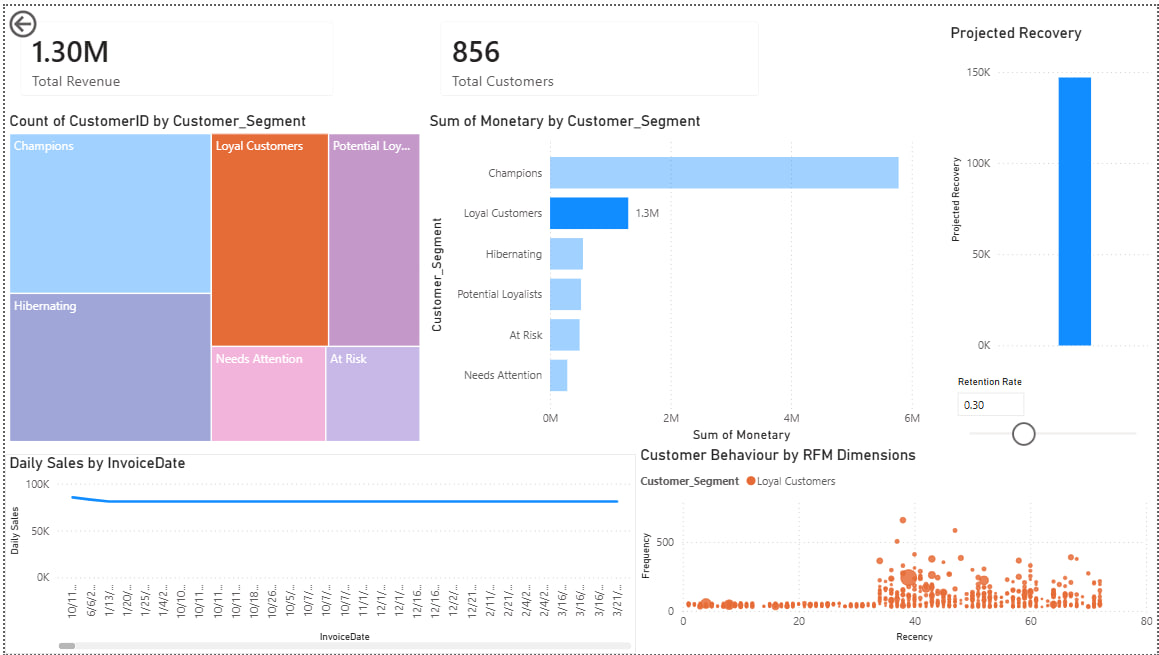

What the dashboard file says about the page in this screenshot:
{"tool":"powerbi","page":{"name":"Page 1","canvas":[1280,720],"ordinal":0},"visuals":[{"type":"treemap","fields":{"Group":["Fact_RFM.Customer_Segment"],"Values":["CountNonNull(Fact_RFM.CustomerID)"]},"box":[0,117.5,466.2,371.2],"z":0},{"type":"clusteredBarChart","fields":{"Category":["Fact_RFM.Customer_Segment"],"Y":["Sum(Fact_RFM.Monetary)"]},"box":[466.2,117.5,578.8,371.2],"z":1},{"type":"cardVisual","fields":{"Data":["Sum(Fact_RFM.Monetary)"]},"box":[0,0,466.2,117.5],"z":2},{"type":"cardVisual","fields":{"Data":["CountNonNull(Fact_RFM.CustomerID)"]},"box":[468.8,0,576.2,117.5],"z":3},{"type":"lineChart","fields":{"Y":["Sum(Fact_RFM.Monetary)"],"Category":["data.InvoiceDate"]},"box":[0,498.2,1170,221.8],"z":4},{"type":"slicer","fields":{"Values":["Retention Rate.Retention Rate"]},"box":[1045,498.8,235,102.5],"z":5},{"type":"actionButton","box":[0,0,100,40],"z":6},{"type":"clusteredColumnChart","fields":{"Y":["Fact_RFM.Projected Recovery"]},"box":[1045,117.5,235,371.2],"z":7}]}

Visuals, with their boxes in screenshot pixels (x1, y1, x2, y2), scaled from the page's 1280x720 canvas onto the 1159x655 screenshot:
treemap - Fact_RFM.Customer_Segment x CountNonNull(Fact_RFM.CustomerID): bbox(0, 107, 422, 445)
clusteredBarChart - Fact_RFM.Customer_Segment x Sum(Fact_RFM.Monetary): bbox(422, 107, 946, 445)
cardVisual - Sum(Fact_RFM.Monetary): bbox(0, 0, 422, 107)
cardVisual - CountNonNull(Fact_RFM.CustomerID): bbox(424, 0, 946, 107)
lineChart - Sum(Fact_RFM.Monetary) x data.InvoiceDate: bbox(0, 453, 1059, 654)
slicer - Retention Rate.Retention Rate: bbox(946, 454, 1158, 547)
actionButton: bbox(0, 0, 91, 36)
clusteredColumnChart - Fact_RFM.Projected Recovery: bbox(946, 107, 1158, 445)
